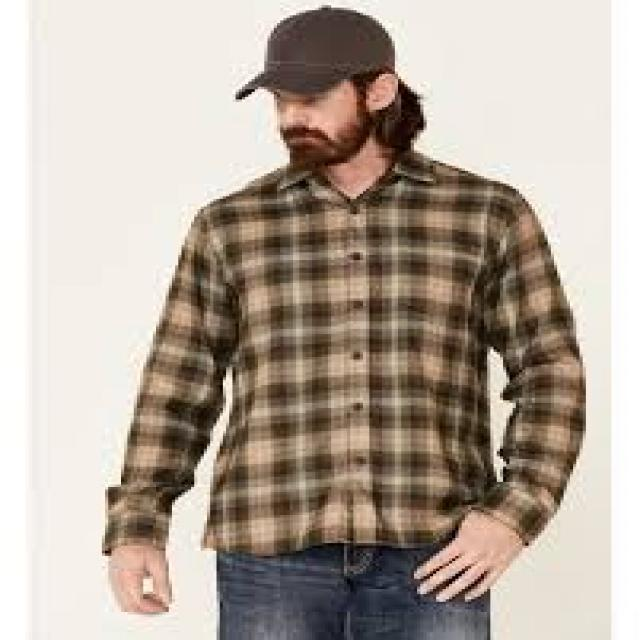plaid: (110, 158, 592, 548)
